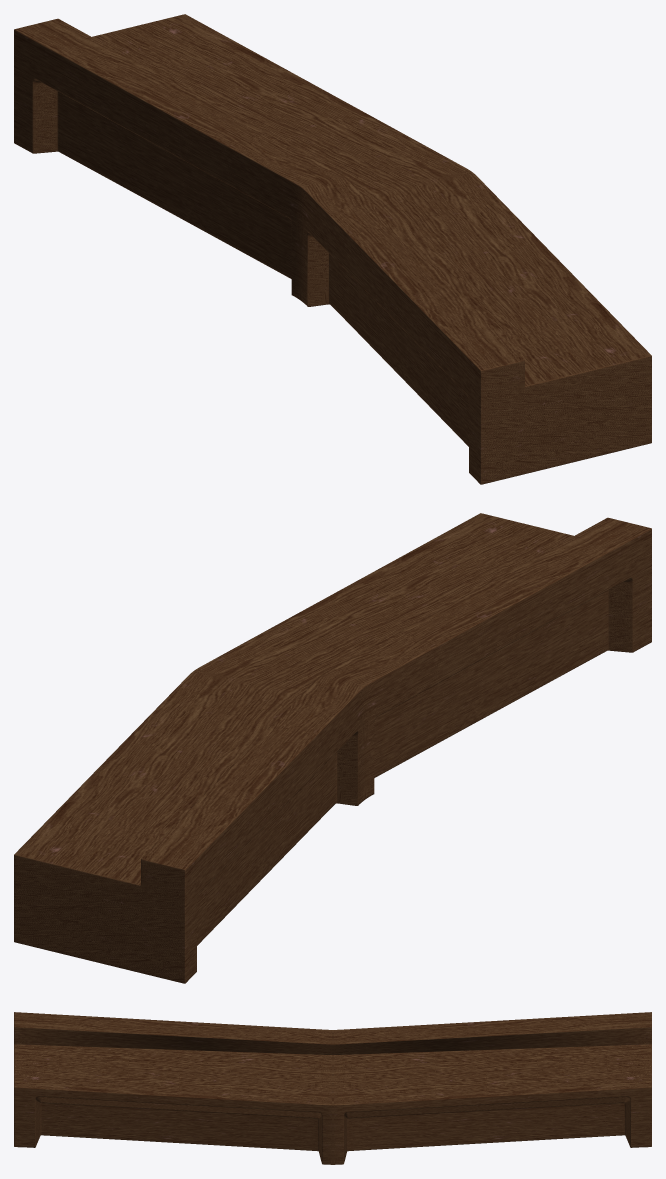
File: Table2.glb
The picture shows the model from 3 angles, top to bottom: view 1: azimuth 30°, elevation 25°; view 2: azimuth 150°, elevation 25°; view 3: azimuth 270°, elevation 25°; orthographic projection. The views are drawn at different scales.
Visible parts, largest first — view 1: Cube_Baked; view 2: Cube_Baked; view 3: Cube_Baked.
Boxes of the visible parts, bbox=[...] form: Cube_Baked: bbox=[14, 14, 651, 484]; Cube_Baked: bbox=[14, 513, 651, 983]; Cube_Baked: bbox=[14, 1012, 651, 1164].
Bounding box in the file's own units: 1.81 × 0.8776 × 6.49.
1 material, 1 textured.
